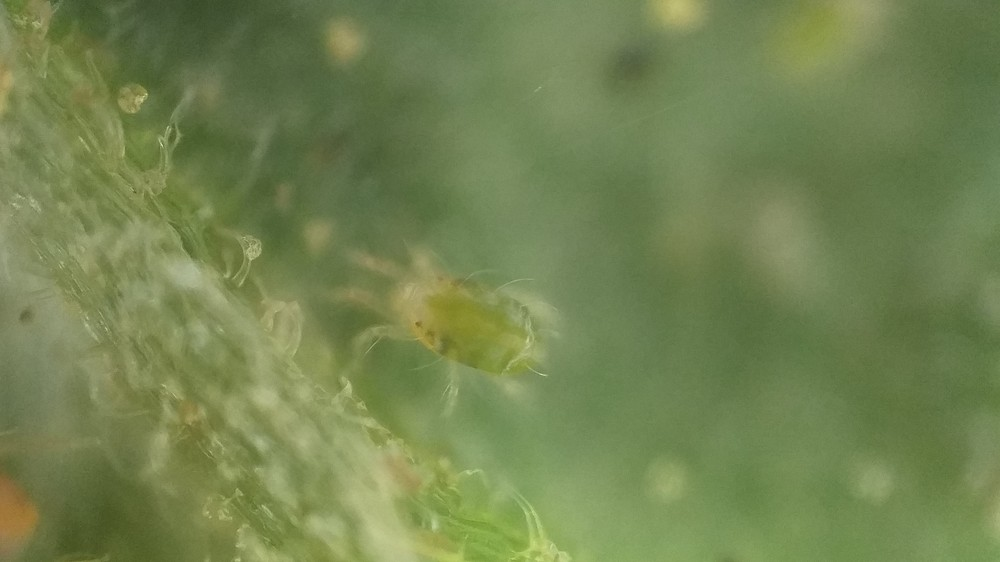Aracnido Rojo: (324, 228, 588, 446)
